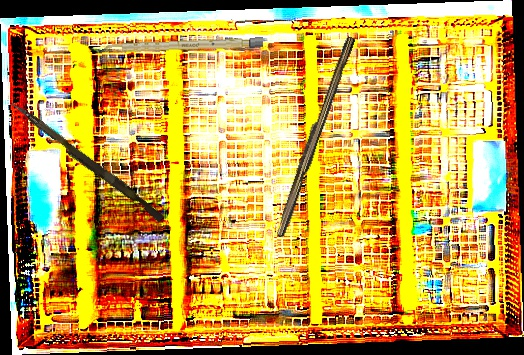Pusher: (6, 100, 167, 223)
Scalpel Handle: (272, 33, 356, 240), (103, 37, 264, 53)
